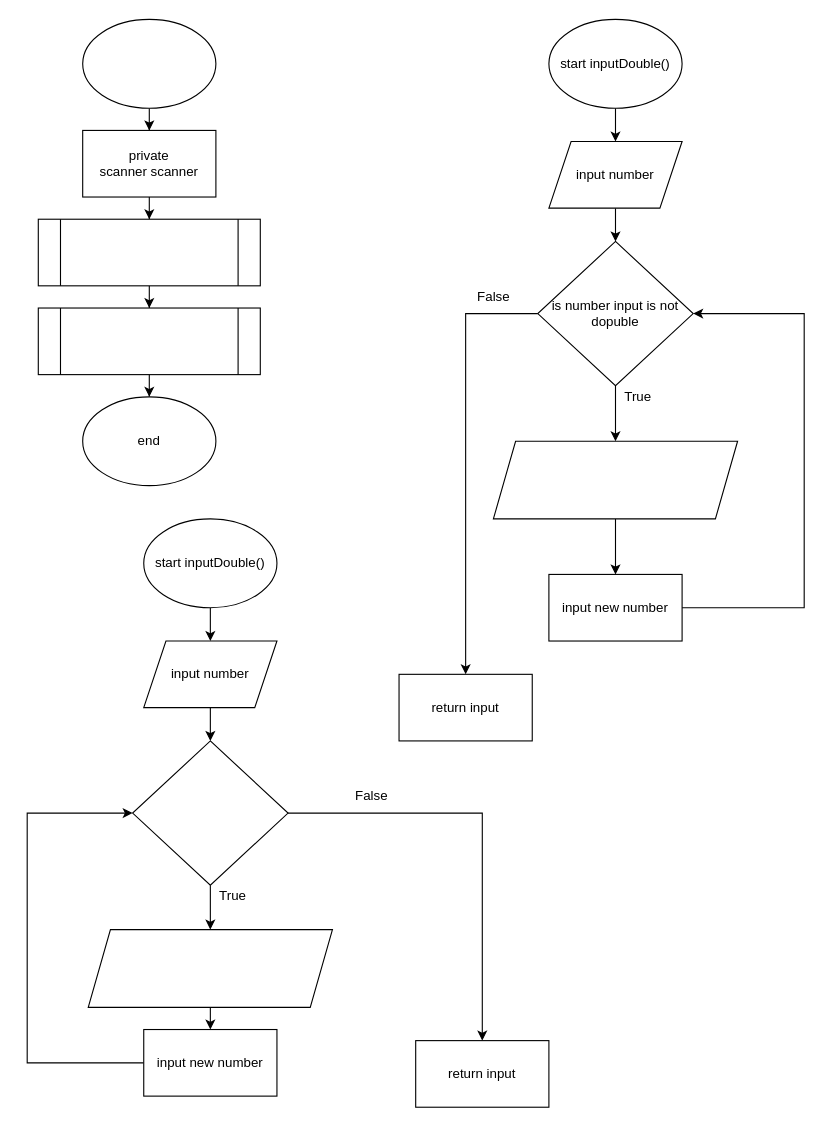
This 833x1127 diagram has some shape labels left out. Each missing label, with the centre of its shape:
is number input is not int: point 210,812
output "Number entered is not double please enter again": point 615,479
output "Number entered is not intplease enter again": point 209,968
public double inputDouble(): point 148,252
public double inputInteger(): point 148,341
start: point 149,63
